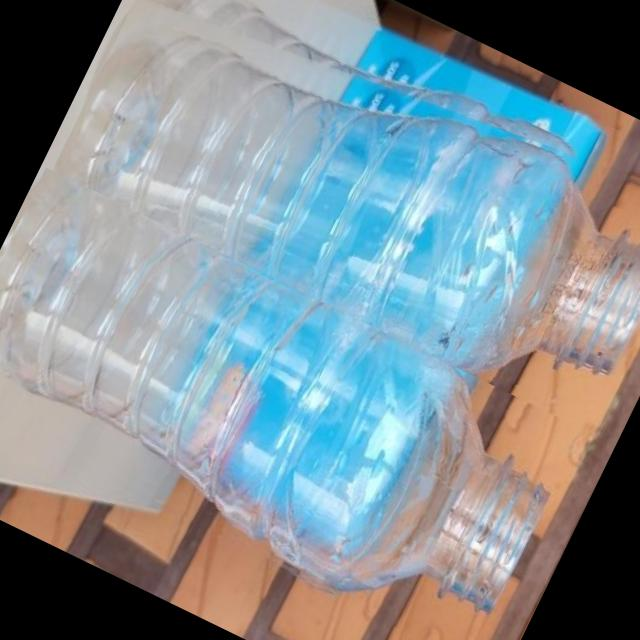plastic bottle: (0, 166, 580, 640), (48, 0, 640, 437)
